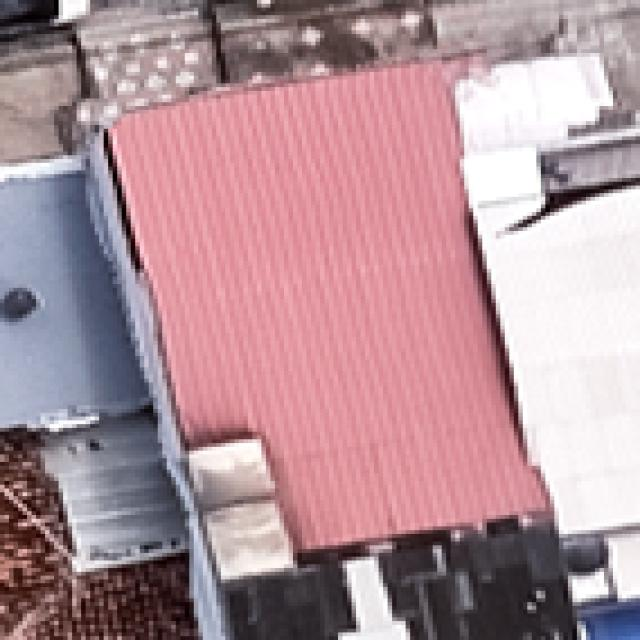Batiment: (109, 61, 549, 551)
